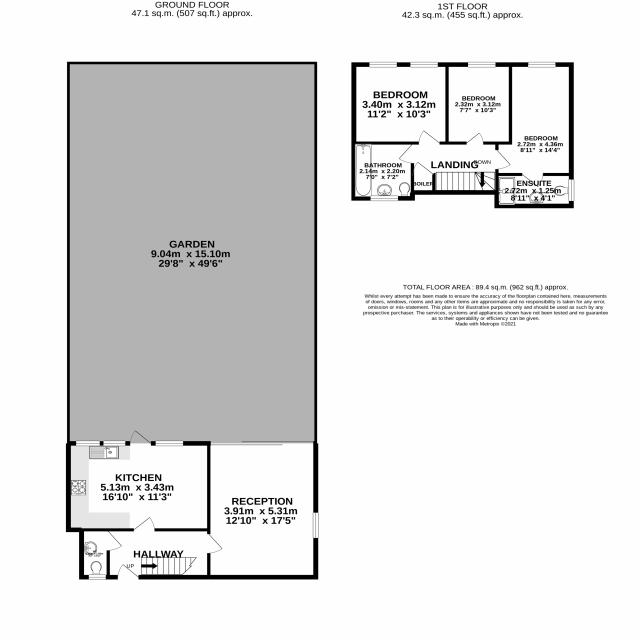DOOR: (117, 563, 139, 580), (129, 430, 152, 446), (495, 149, 512, 170), (207, 533, 224, 554), (397, 144, 414, 164), (106, 531, 123, 551), (522, 173, 544, 188), (418, 130, 440, 145), (133, 516, 155, 531), (466, 132, 484, 145)
ROOM: (207, 441, 319, 580), (66, 430, 211, 532), (495, 61, 574, 188), (351, 62, 449, 145), (445, 62, 512, 145)
WINDOW: (467, 61, 496, 68), (370, 195, 399, 202), (528, 61, 556, 68), (410, 61, 438, 68), (312, 512, 319, 539), (369, 62, 397, 68), (568, 179, 575, 202), (76, 440, 100, 446), (155, 441, 183, 446), (103, 441, 126, 447), (88, 574, 106, 580)
